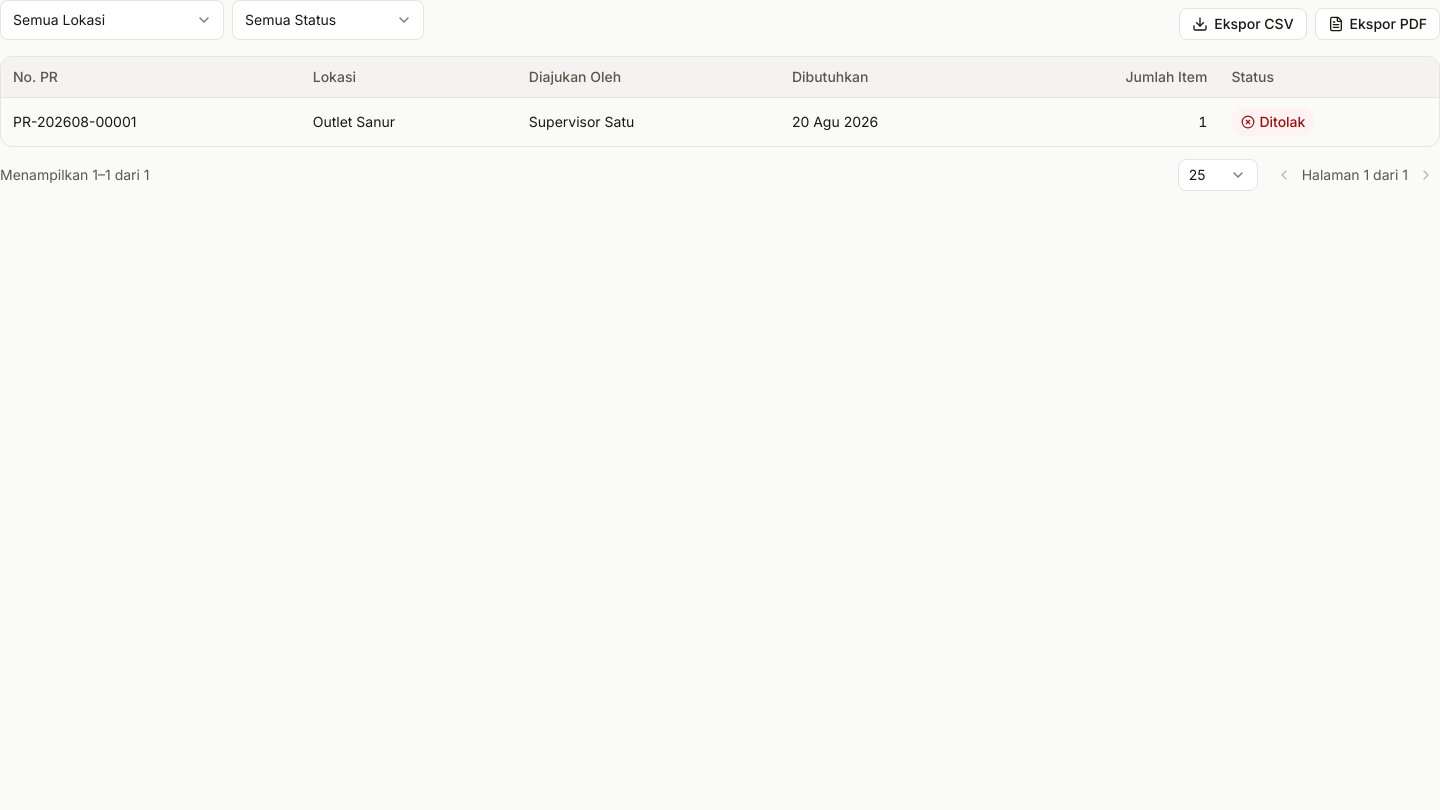
Test: PurchaseRequestsPanel — F-PUR-01 status ladder › a rejected PR renders its rejection reason
The width and height of the screenshot is (1440, 810).
Click the text "PR-202608-00001" at (75, 122), box [1,98,301,146]
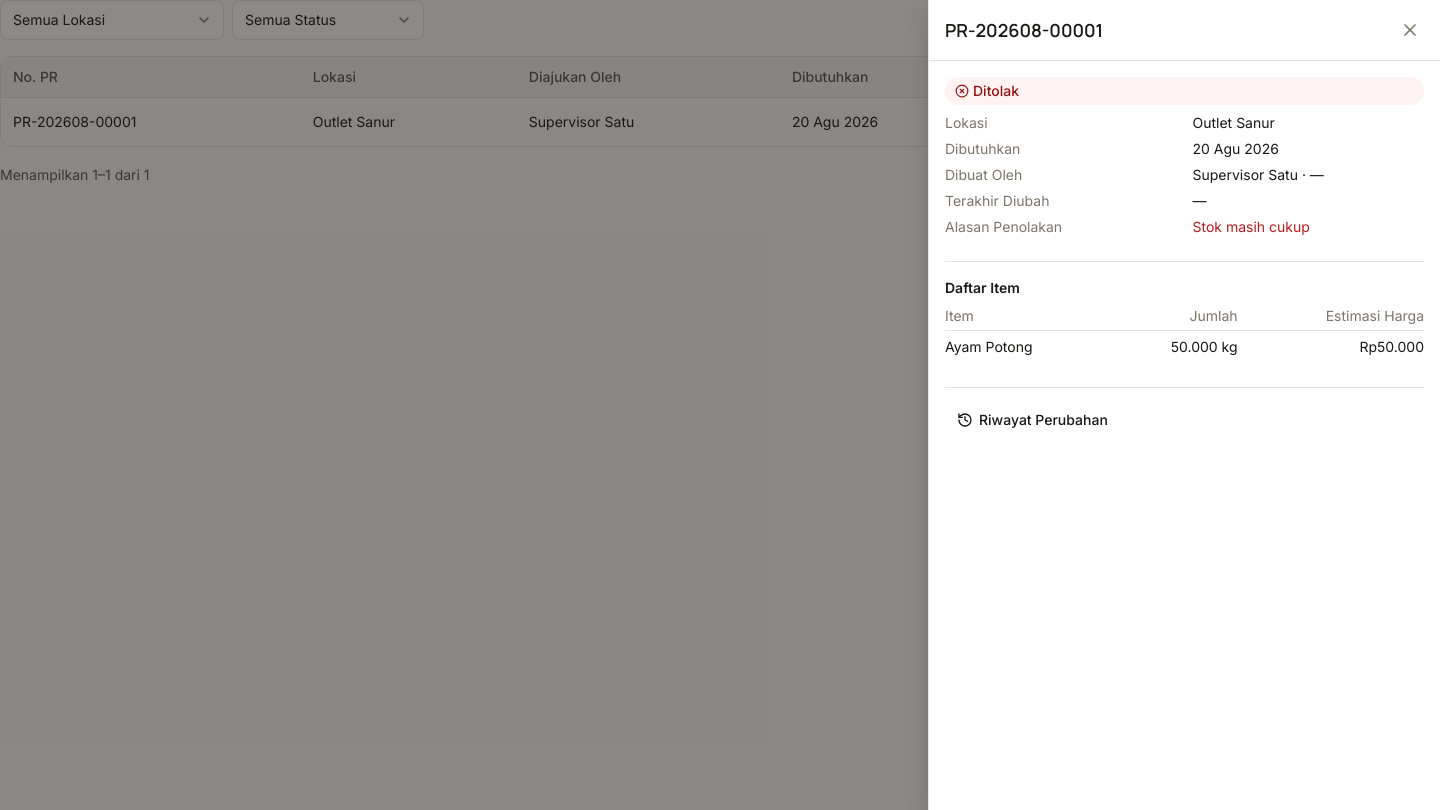
Expected: the text "Stok masih cukup" is shown, [1192,218,1310,235]
